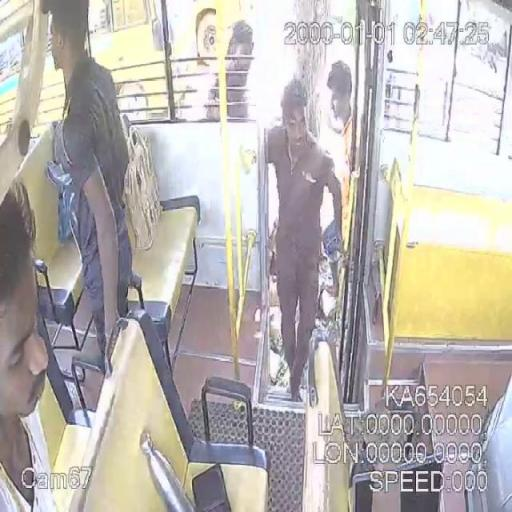persona: (39, 0, 135, 378), (254, 78, 344, 402), (0, 180, 58, 511), (318, 60, 356, 324)
